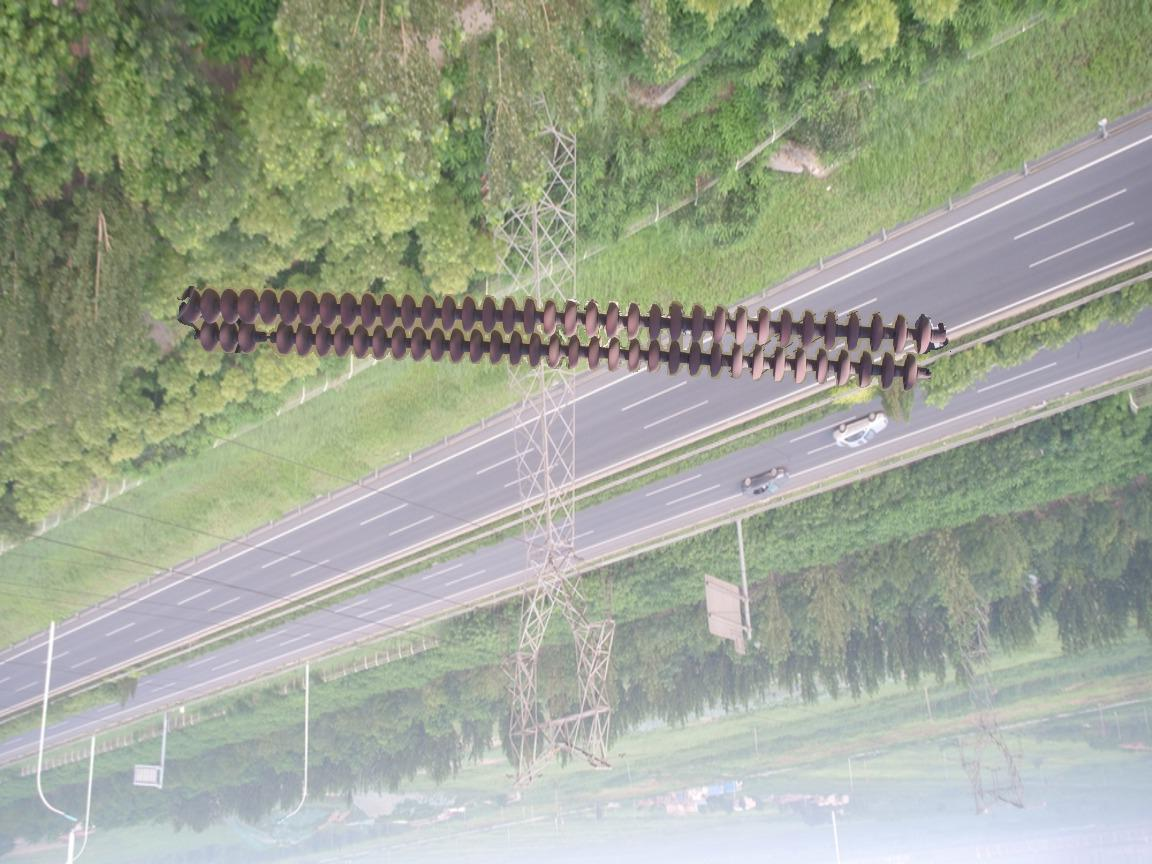insulator: (172, 283, 942, 391)
insulator_stringdrop: (236, 322, 298, 357)
